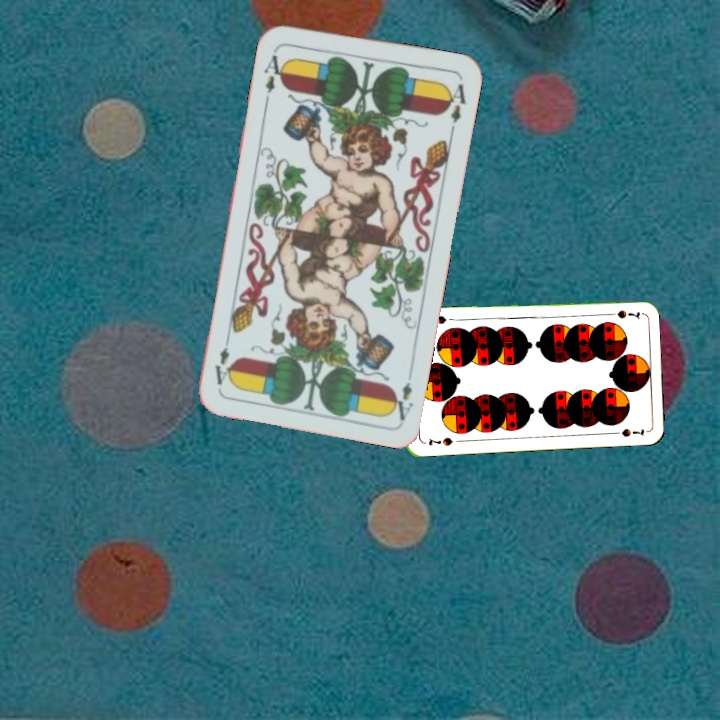EA: (260, 51, 288, 104), (386, 378, 416, 423)
S7: (602, 306, 642, 321), (424, 434, 455, 448)
